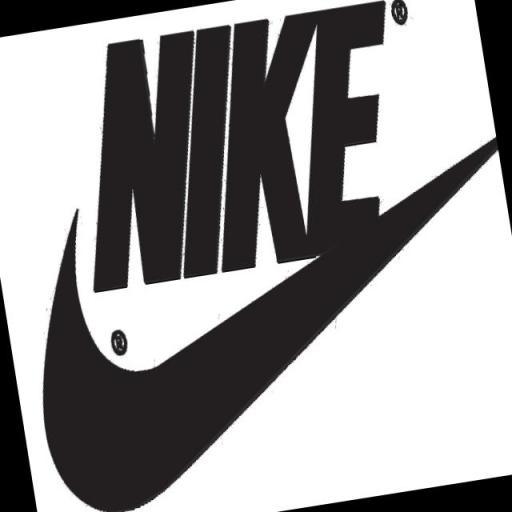Nike: (15, 172, 498, 512), (54, 0, 428, 297)
